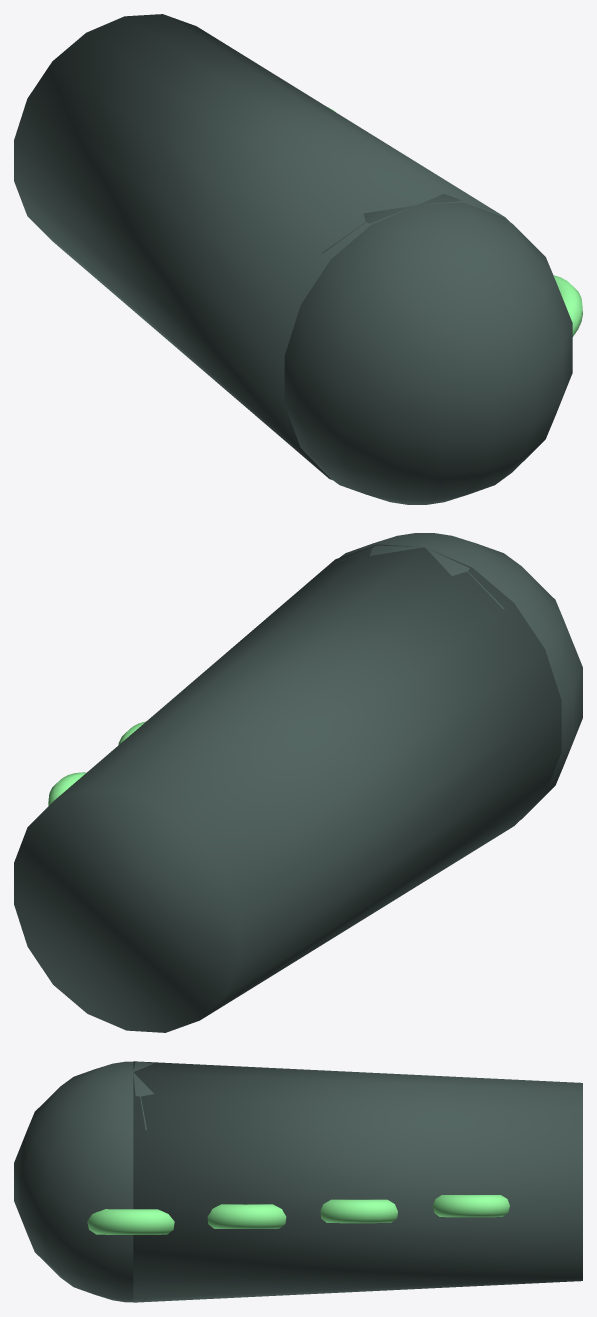
File: seg2.glb
3 views of the same model, one above another, from view 1: azimuth 30°, elevation 25°; view 2: azimuth 150°, elevation 25°; view 3: azimuth 270°, elevation 25° (orthographic). The views are drawn at different scales.
Visible parts, largest first — view 1: tentacle, sucker; view 2: tentacle; view 3: tentacle, sucker.
Part boxes in pixels (left/top/right/bottom): tentacle: left=14, top=14, right=572, bottom=504; sucker: left=327, top=107, right=582, bottom=336; tentacle: left=14, top=533, right=582, bottom=1032; tentacle: left=14, top=1061, right=582, bottom=1302; sucker: left=87, top=1195, right=509, bottom=1234.
Bounding box in the file's own units: 0.4885 × 0.4581 × 1.08.
